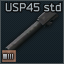HK USP .45 ACP standard barrel: (0, 0, 64, 64)
